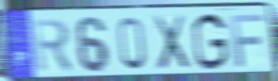0: (117, 16, 148, 72)
6: (74, 15, 111, 75)
F: (229, 12, 266, 69)
G: (191, 12, 230, 72)
R: (31, 17, 76, 75)
X: (151, 13, 192, 73)
